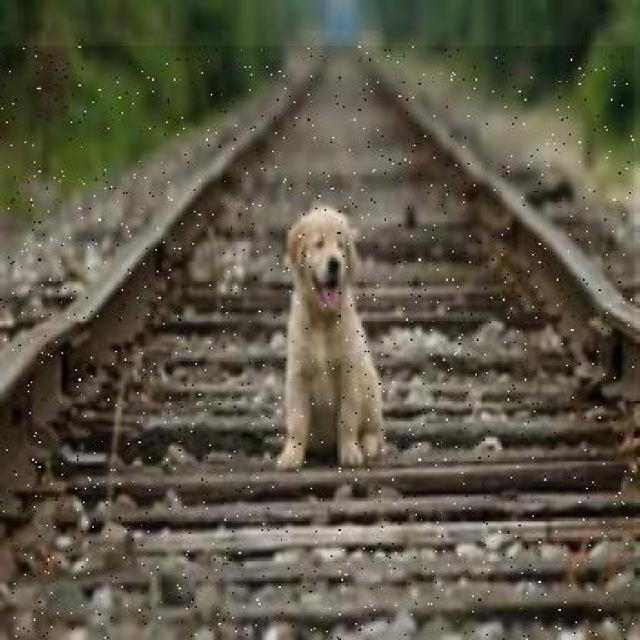rail: (1, 47, 635, 640)
